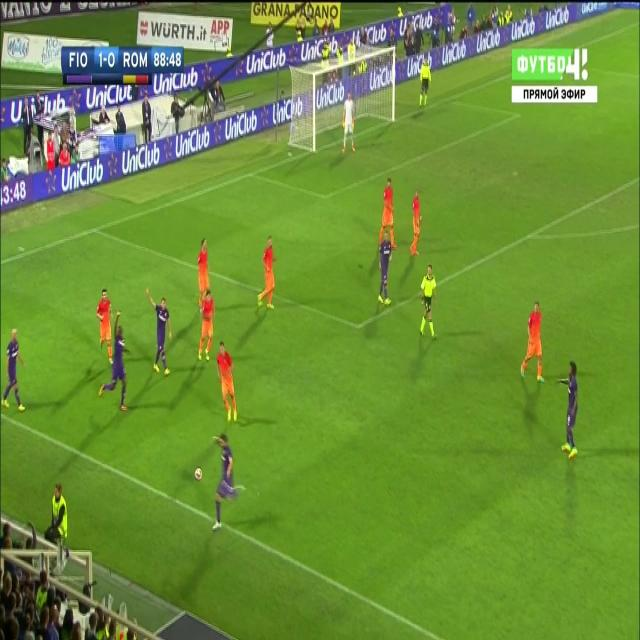Ball: (193, 464, 204, 482)
Goalkeeper: (339, 90, 359, 158)
Player: (97, 308, 132, 418), (209, 432, 243, 532), (554, 359, 580, 462), (0, 326, 28, 418), (146, 286, 173, 379), (215, 341, 241, 426), (520, 301, 546, 382), (256, 236, 279, 315), (95, 287, 116, 369), (194, 236, 213, 315), (197, 289, 217, 363), (378, 175, 397, 252), (375, 229, 393, 308), (406, 189, 424, 258)
Referee: (416, 264, 439, 345), (415, 50, 432, 113)
